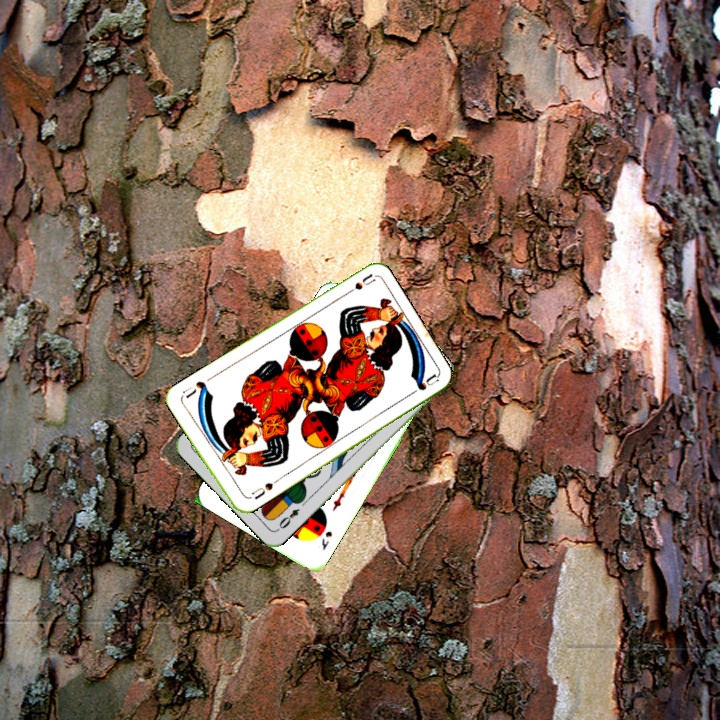EO: (273, 504, 302, 533)
SK: (317, 527, 335, 553)
SU: (339, 270, 377, 299), (247, 476, 280, 502)
